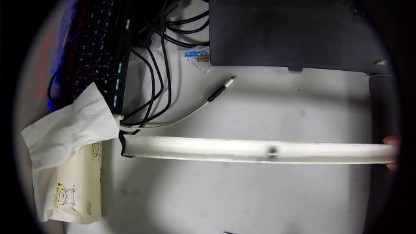gangzhu: (264, 146, 279, 158)
